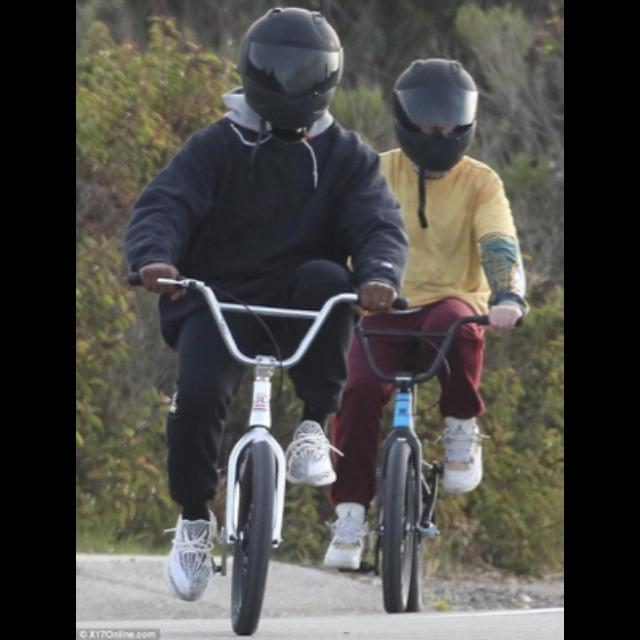With Helmet: (238, 6, 346, 130), (391, 53, 481, 175)
